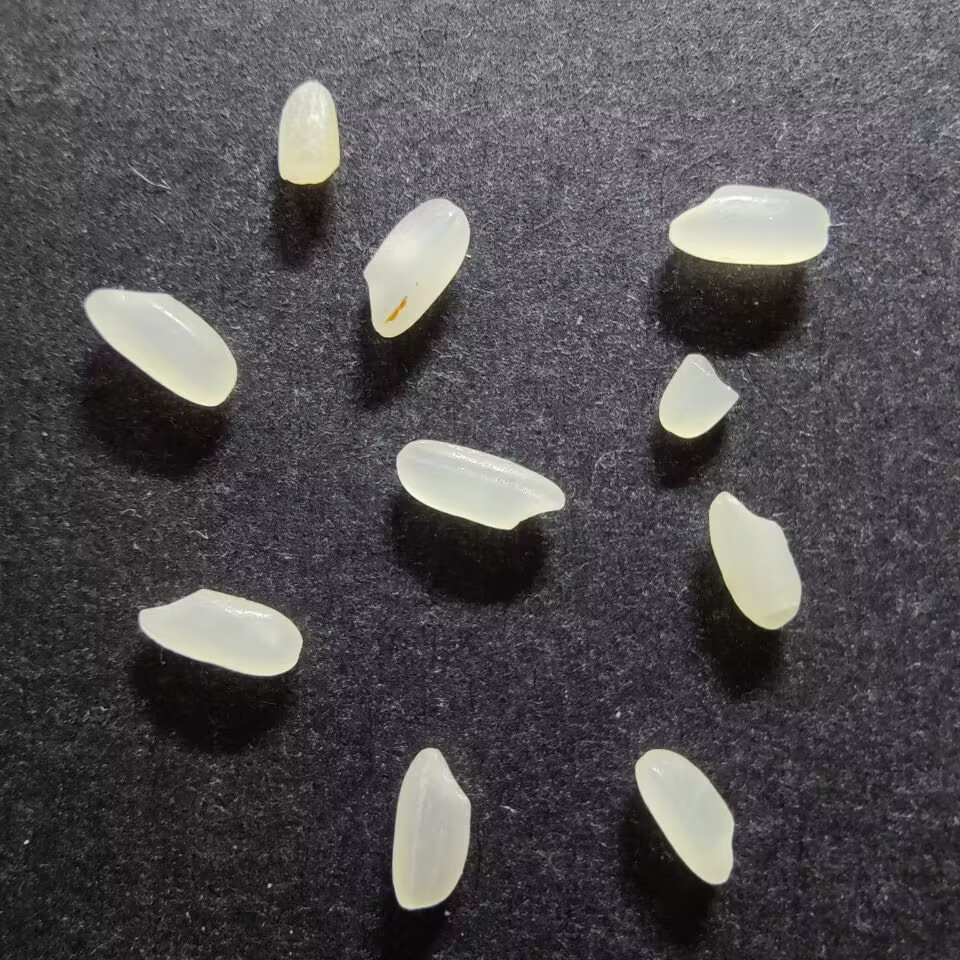broken: (655, 351, 742, 440), (275, 78, 341, 185)
rice: (82, 285, 238, 408), (394, 437, 567, 531), (359, 195, 471, 339), (136, 586, 304, 678), (632, 745, 739, 887), (666, 182, 831, 267), (389, 745, 473, 911), (707, 488, 803, 632)
